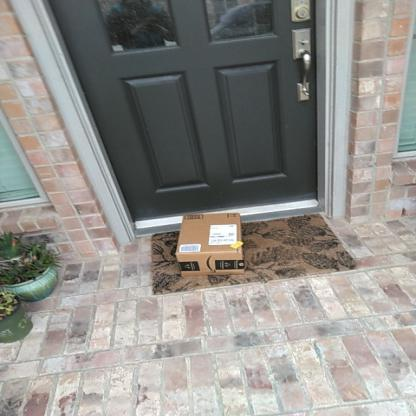package: (170, 210, 250, 285)
